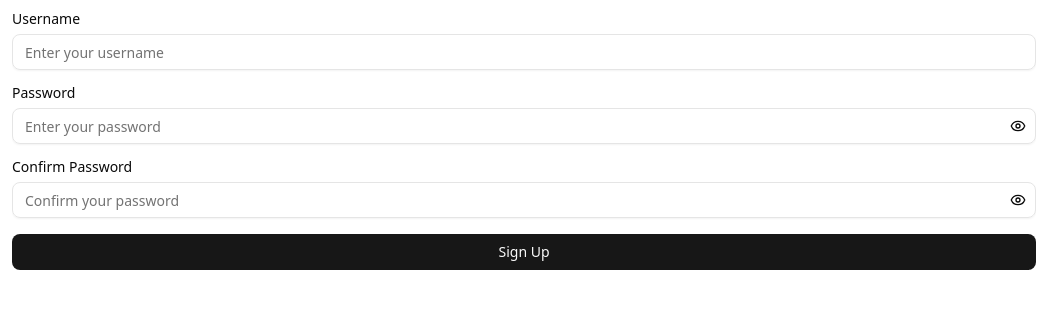
Test: SignupForm › should show error when password is too short
Type "testuser" into the field labelled "Username".
click(524, 52); type("testuser")  # box top-left (12, 34), bottom-right (1036, 70)
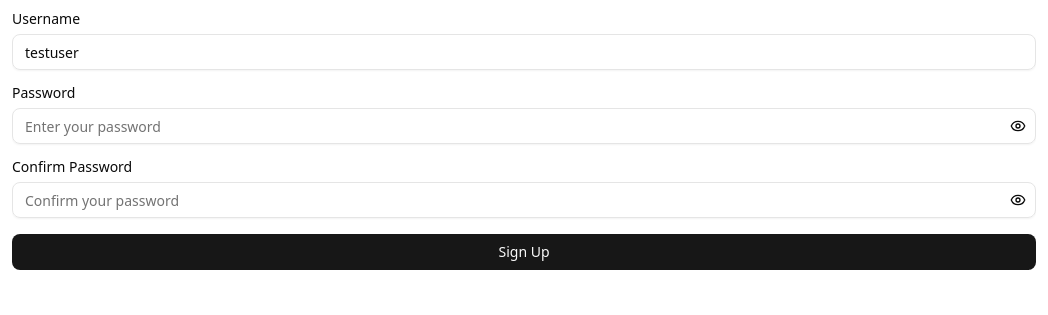
Type "12345" into the password field with placeholder "Enter your password".
click(524, 126); type("12345")  # box top-left (12, 108), bottom-right (1036, 144)
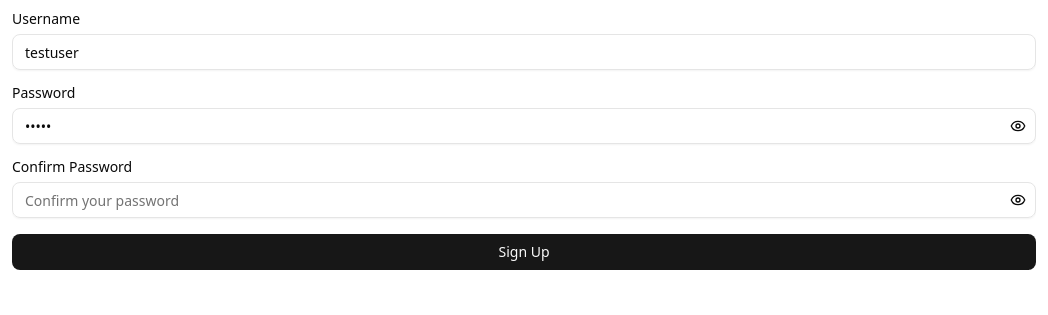
Type "12345" into the password field with placeholder "Confirm your password".
click(524, 200); type("12345")  # box top-left (12, 182), bottom-right (1036, 218)
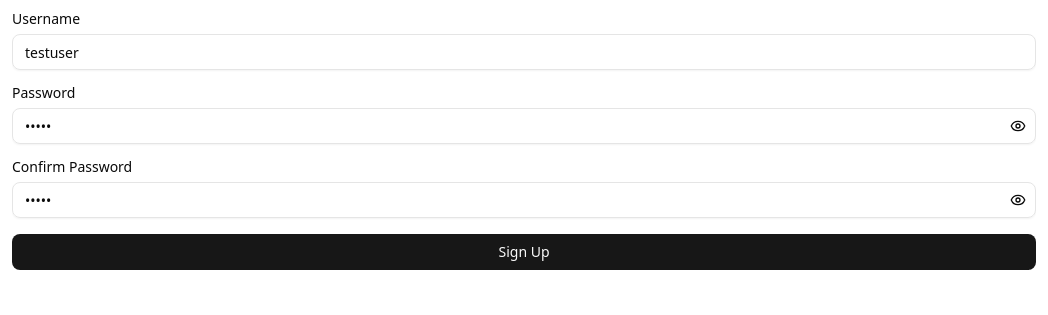
Click the button "Sign Up".
click(524, 252)  # box top-left (12, 234), bottom-right (1036, 270)
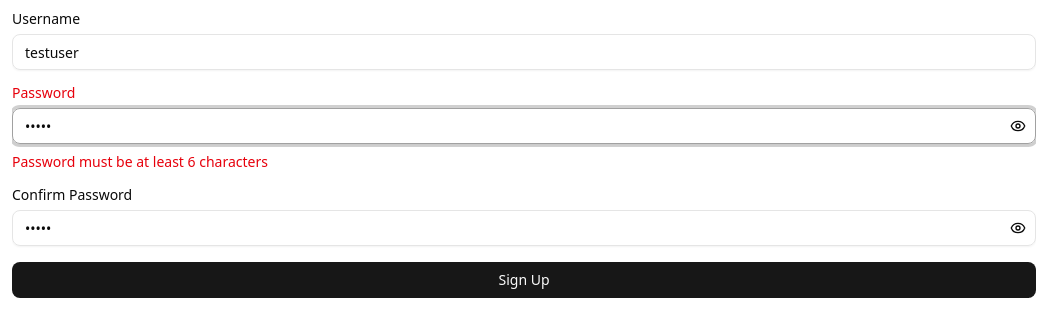
Check: the text "Password must be at least 6 characters" is shown, box top-left (12, 152), bottom-right (268, 171)
